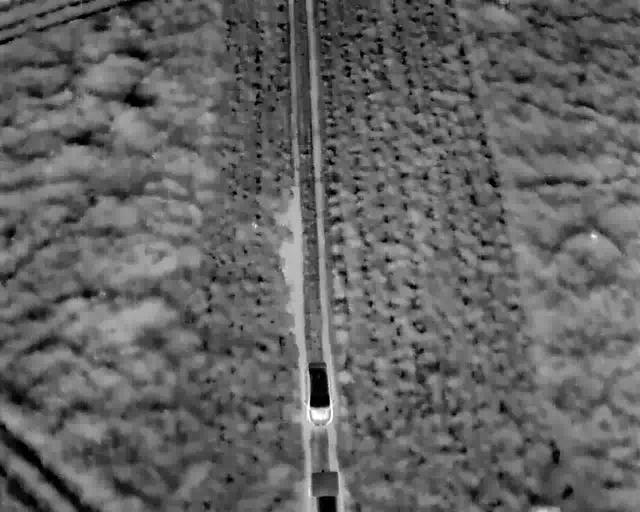car: (302, 360, 334, 428), (309, 469, 344, 512)
